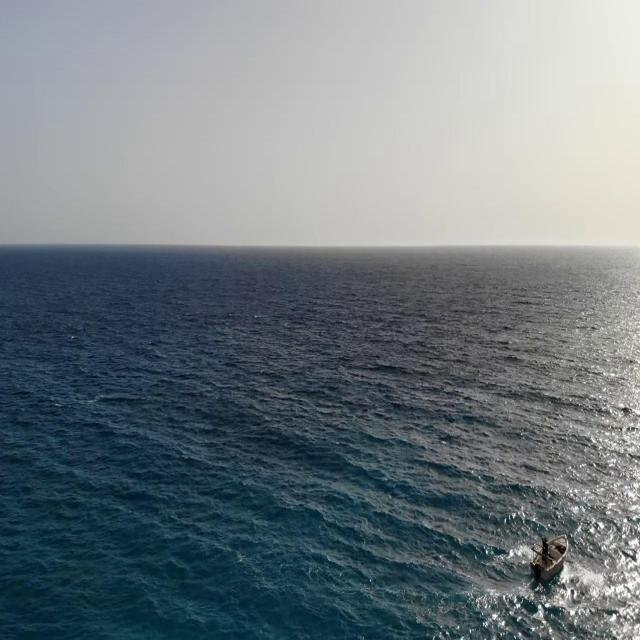boat: (527, 530, 569, 586)
